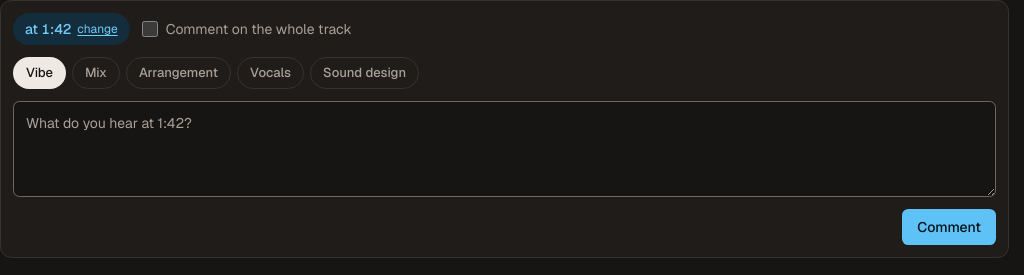
CommentComposer › keeps the text when posting fails
Step 1. Type "Hats are too loud" into the text box named "Comment" → (504, 149), box left=13, top=101, right=996, bottom=197
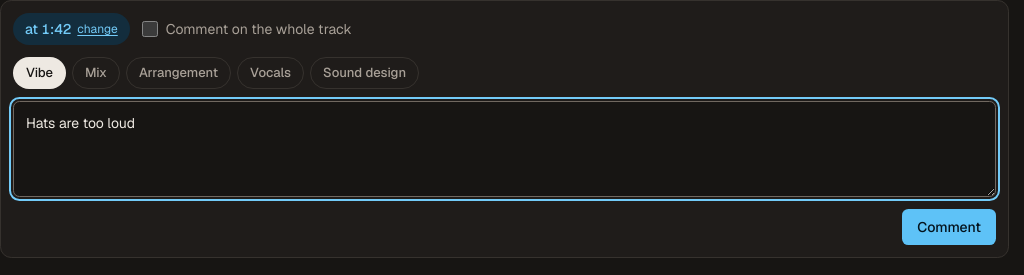
Step 2. Click the button "Comment" → (949, 227), box left=902, top=209, right=996, bottom=245
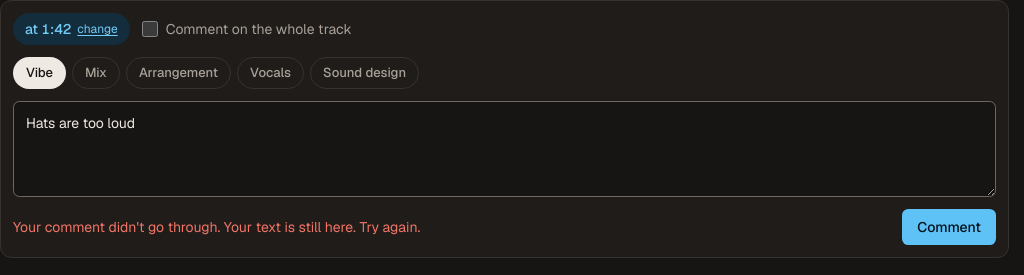
Expected: the text "Your comment didn't go through. Your text is still here. Try again." is shown, left=13, top=217, right=420, bottom=237
